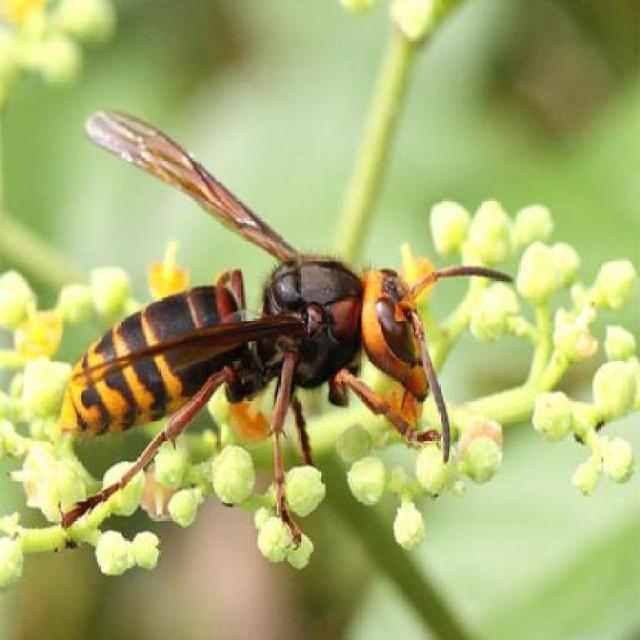Wasp: (55, 102, 515, 550)
